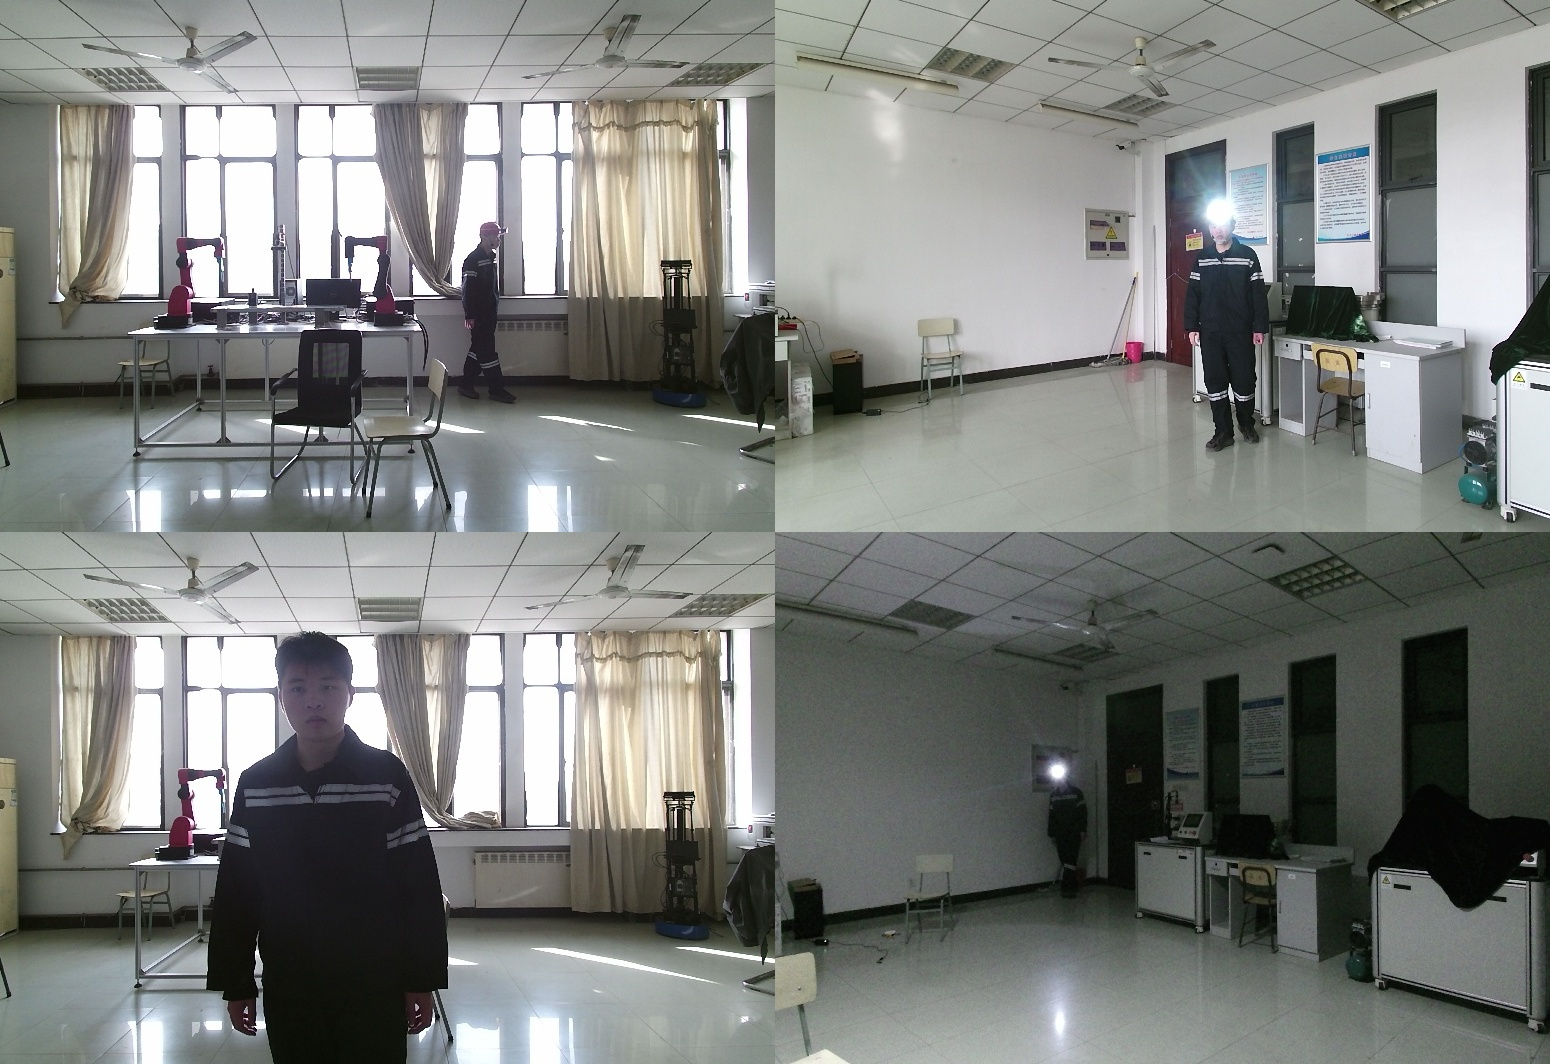person: (220, 632, 459, 1064), (1191, 205, 1281, 452), (462, 222, 519, 413), (1040, 769, 1088, 899)
